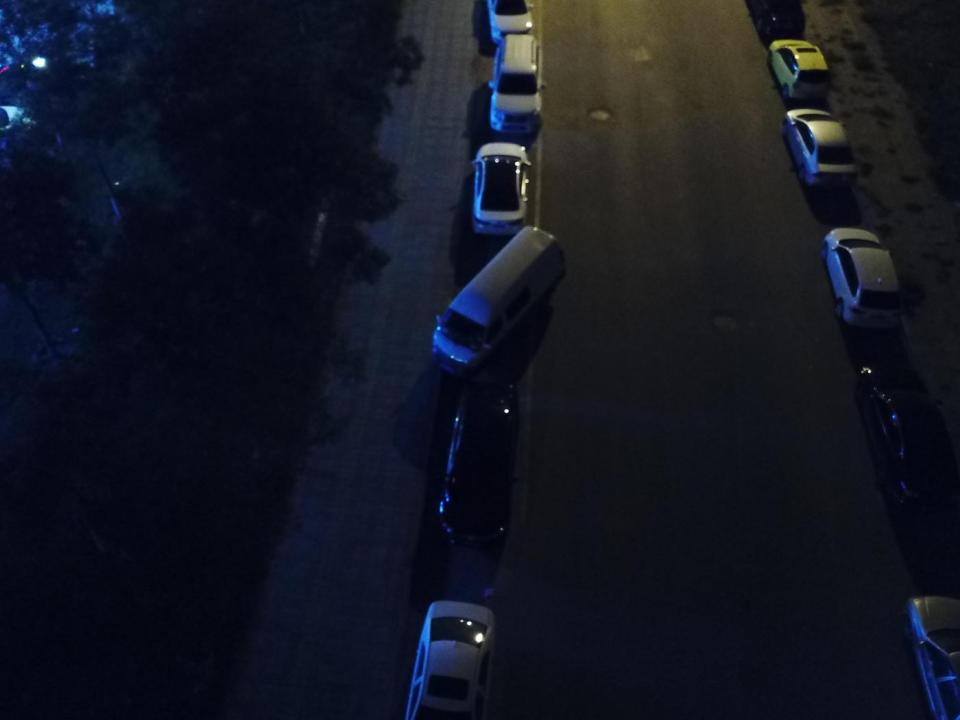car: (855, 366, 960, 509), (437, 378, 522, 547), (404, 599, 494, 720), (820, 227, 903, 330), (901, 595, 960, 719), (781, 108, 858, 188), (488, 34, 546, 134), (470, 142, 531, 237), (766, 38, 830, 102), (485, 0, 535, 43)
van: (431, 226, 566, 378)
